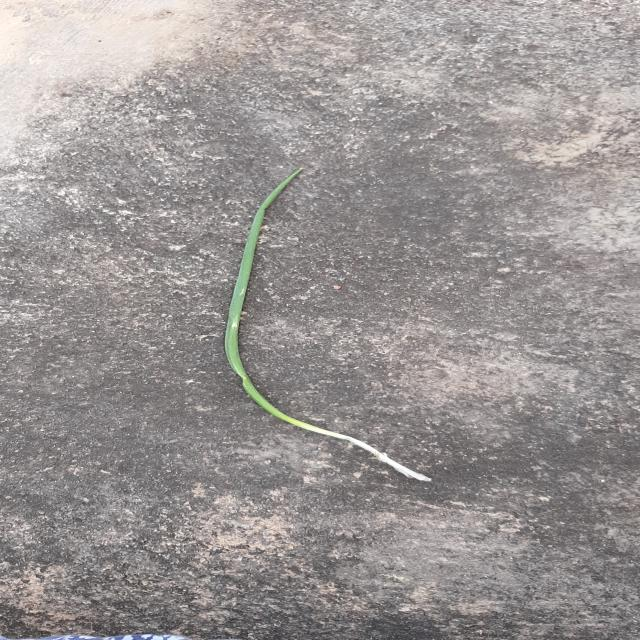onion: (225, 169, 431, 481)
